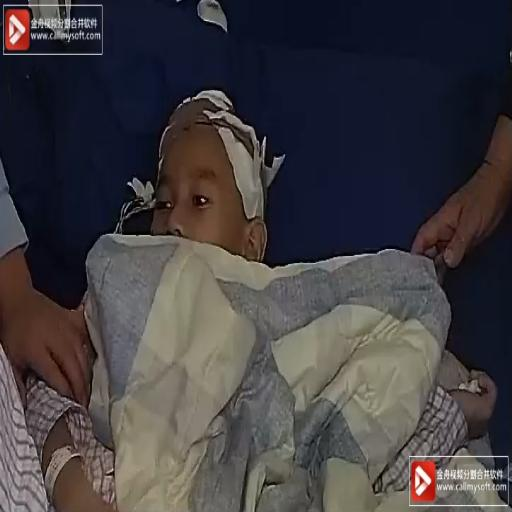Netural: (144, 97, 274, 260)
